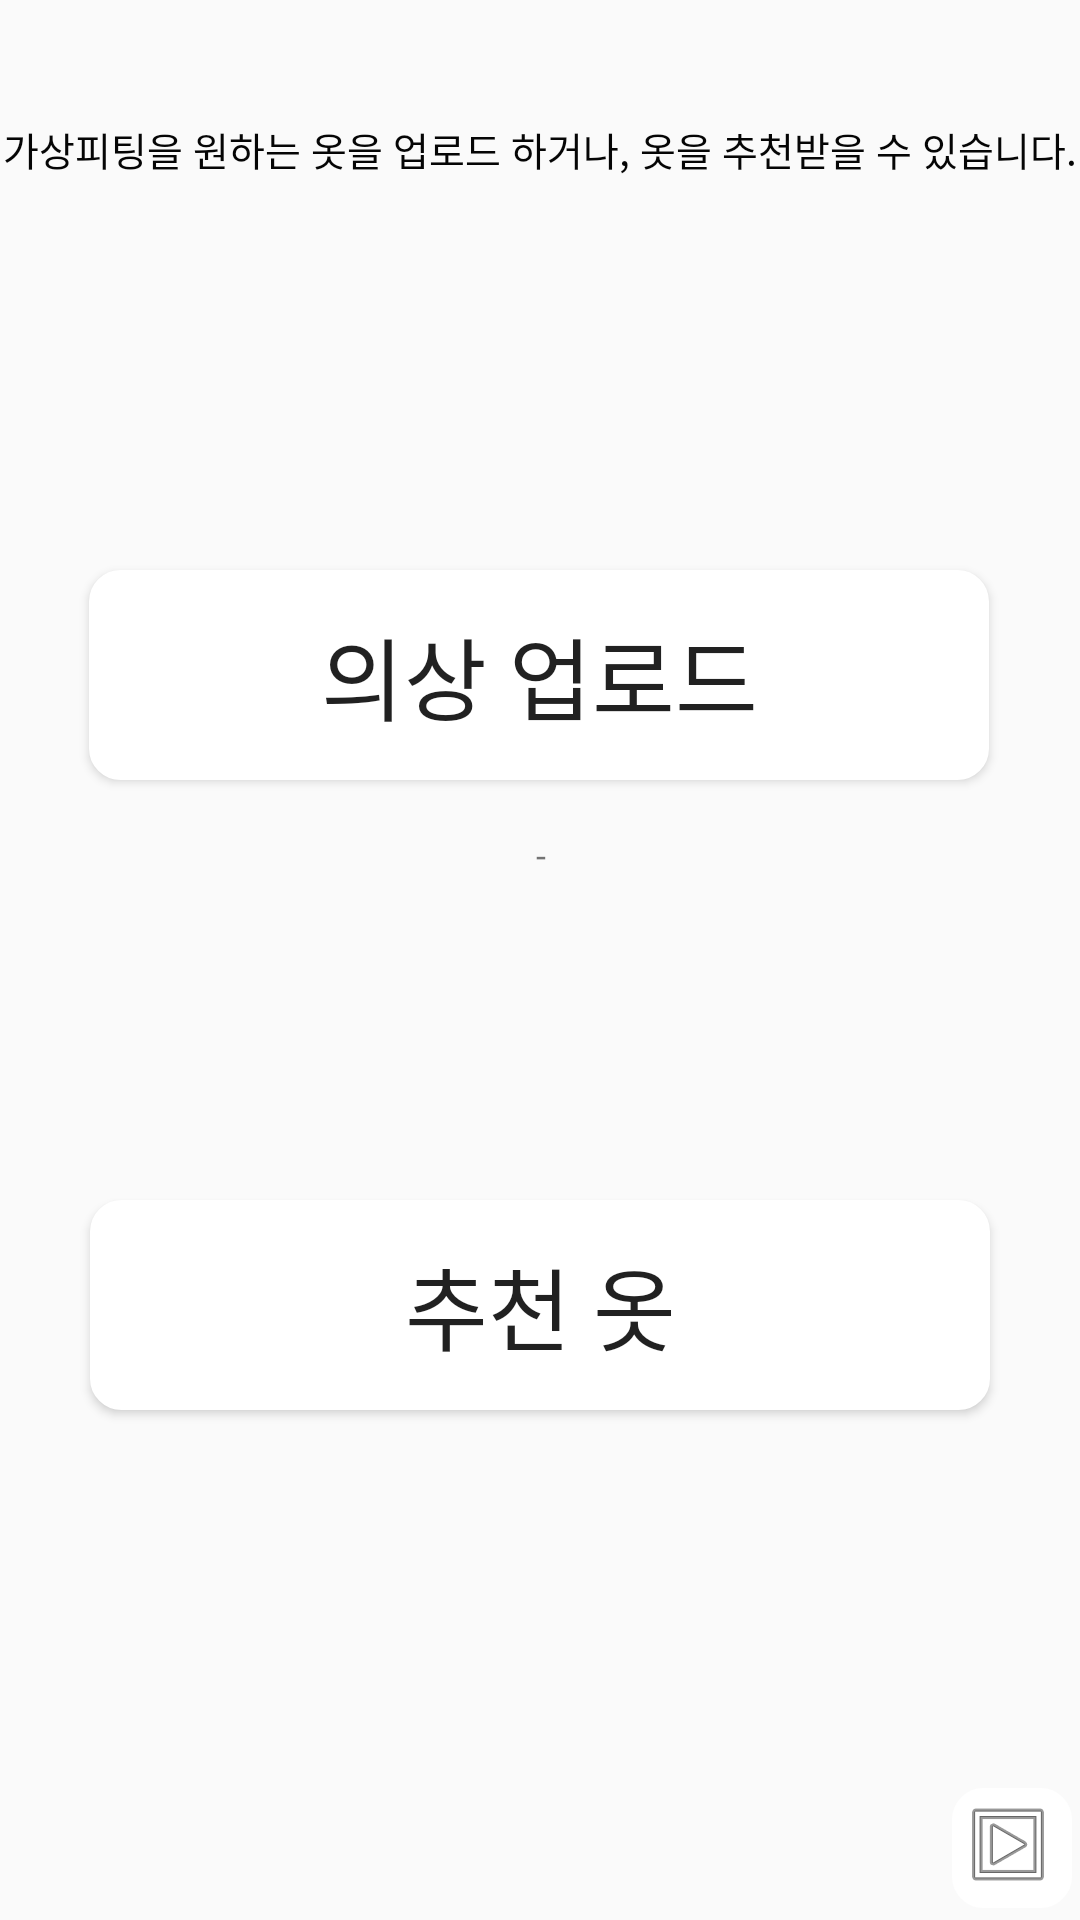

Screen size 1080*1920. Icon name, then its box in pixels as (x1, y1, x2, y2):
slideshow: (972, 1808, 1044, 1881)
